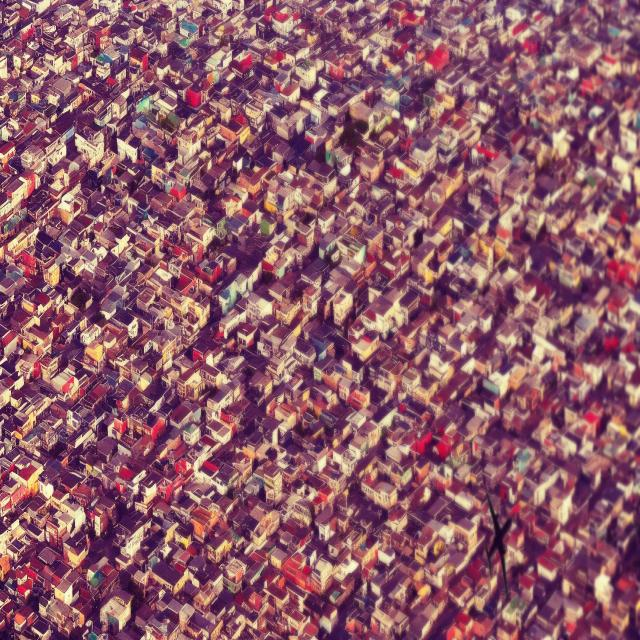airplane: (485, 491, 514, 599)
